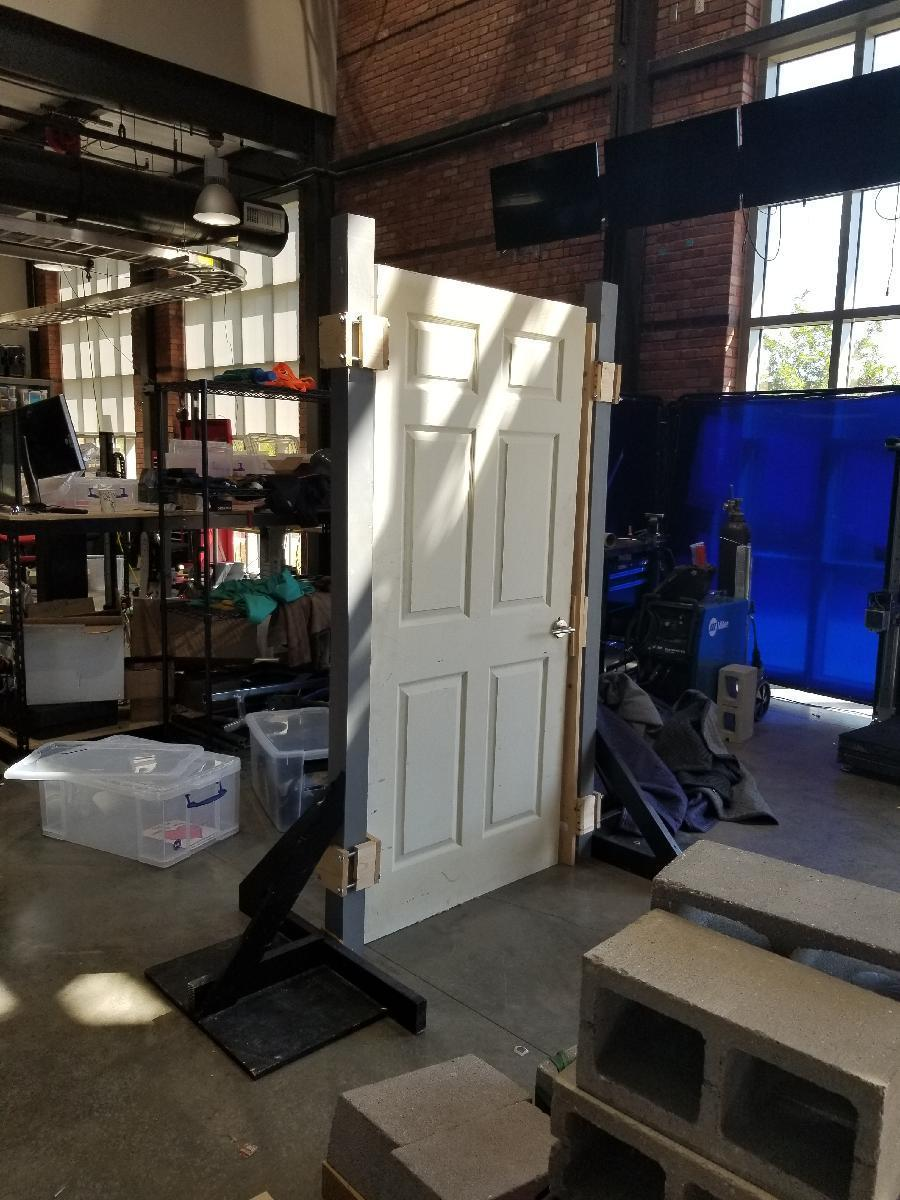door: (376, 268, 576, 941)
handle: (550, 618, 576, 640)
